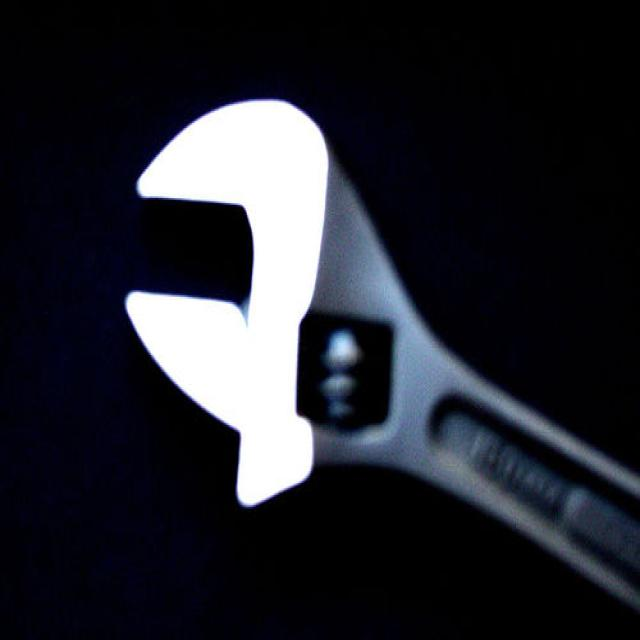wrench: (74, 72, 640, 558)
